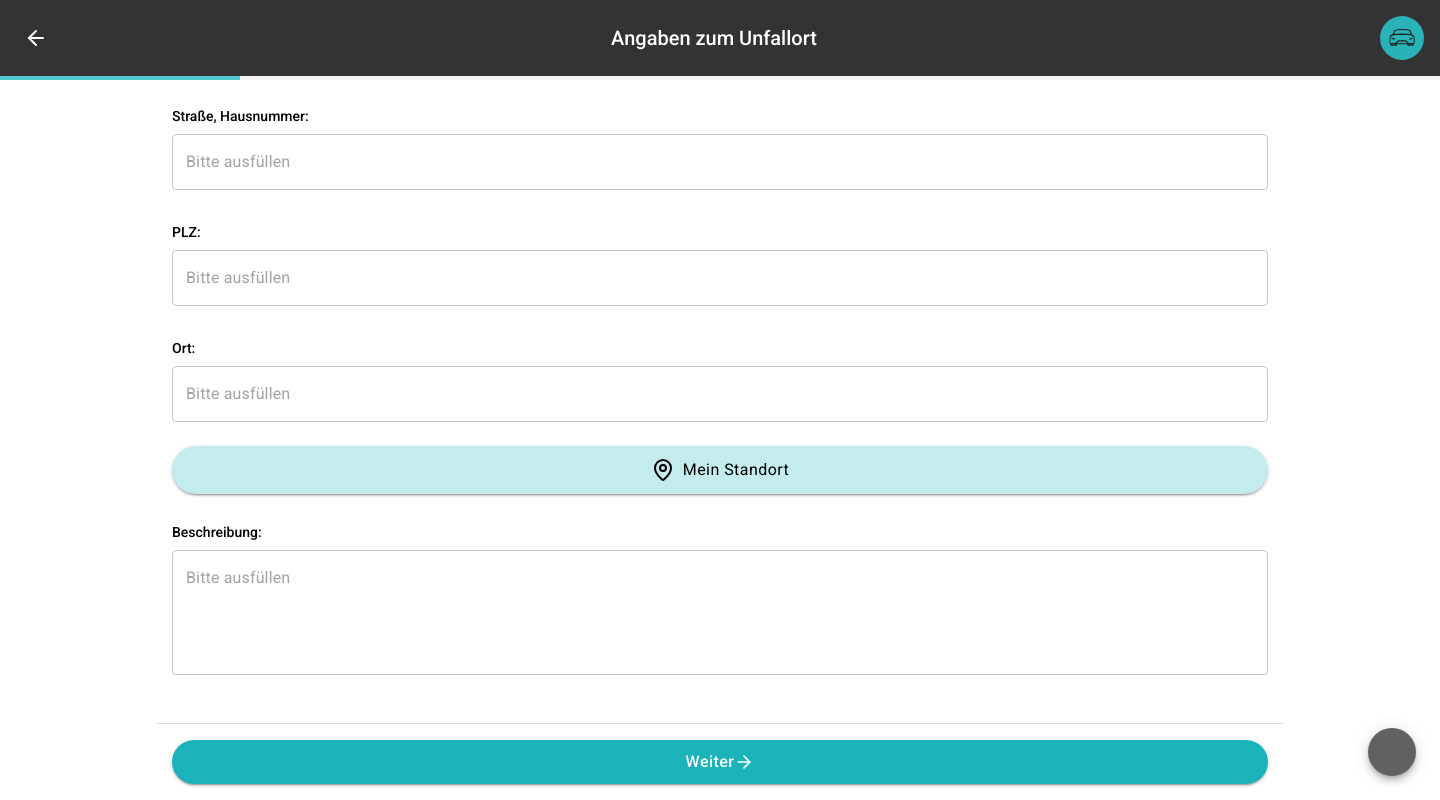
it: CarClaims - Validierung › sollte Validierungsfehler korrekt anzeigen
The image size is (1440, 800).
(page scrolled)
Click the button with class "next-button". click: (720, 762)
box: [172, 740, 1268, 784]
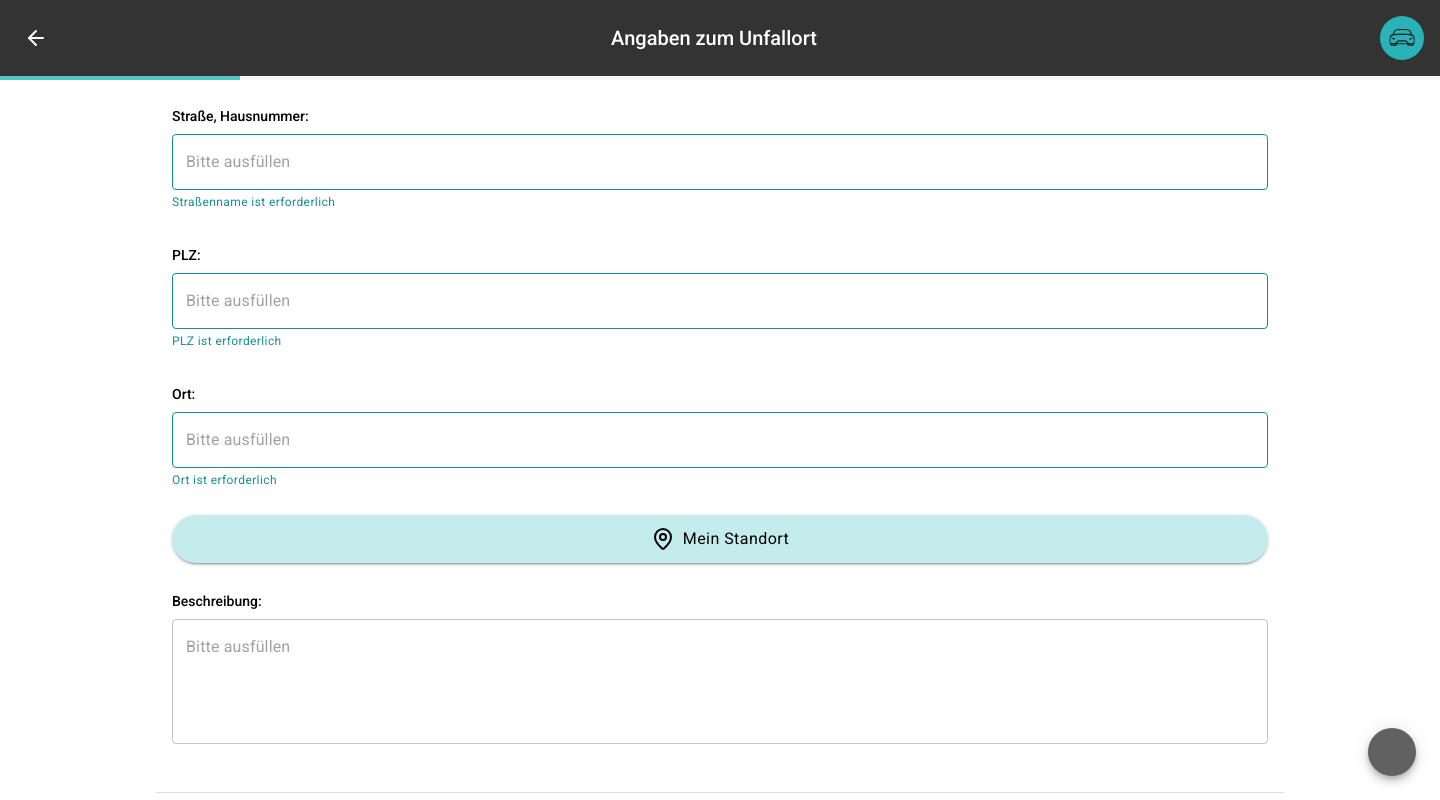
expect the text "erforderlich" is shown: met, box [172, 195, 335, 209]
